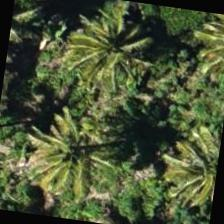Kelapa_Sawit: (58, 8, 160, 110), (0, 104, 82, 206), (146, 116, 222, 215), (172, 9, 223, 96)
